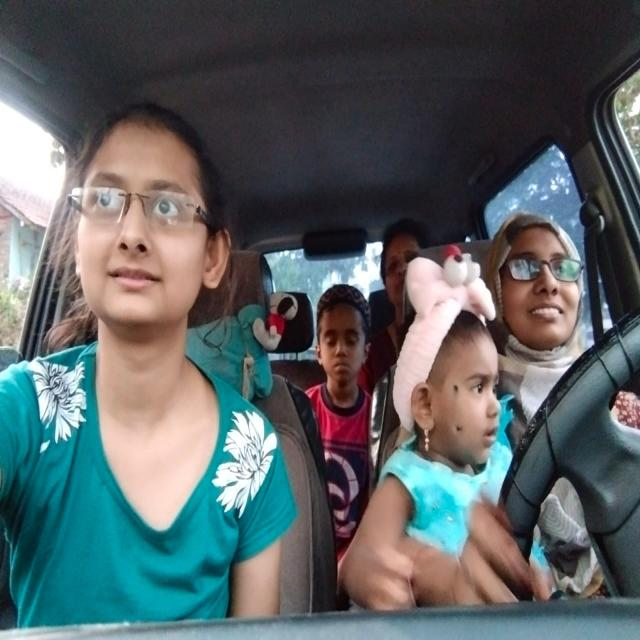child: (414, 339, 501, 459)
person: (68, 114, 233, 319), (496, 223, 584, 341), (317, 291, 373, 386), (377, 231, 416, 289)
